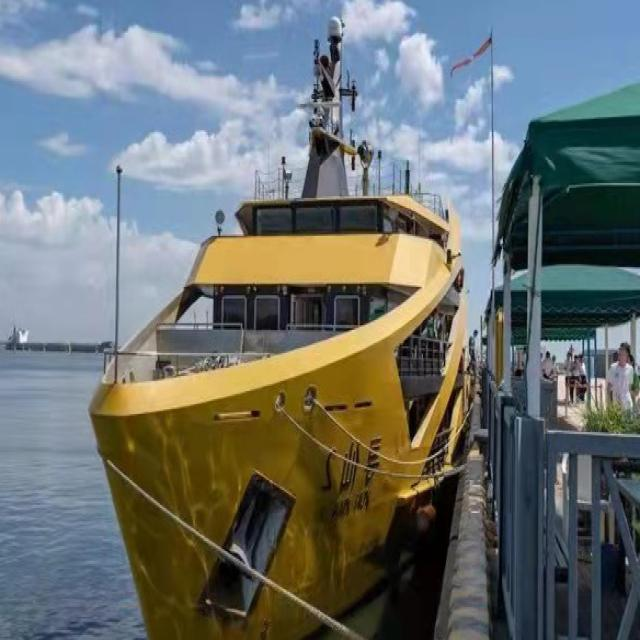passenger ship: (98, 119, 471, 640)
